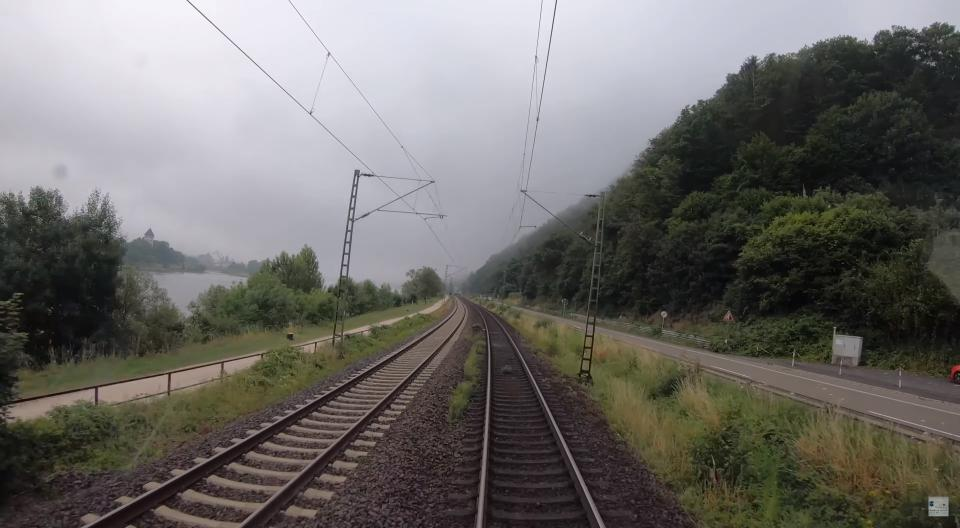Plant: (448, 331, 486, 420), (502, 364, 512, 374)
